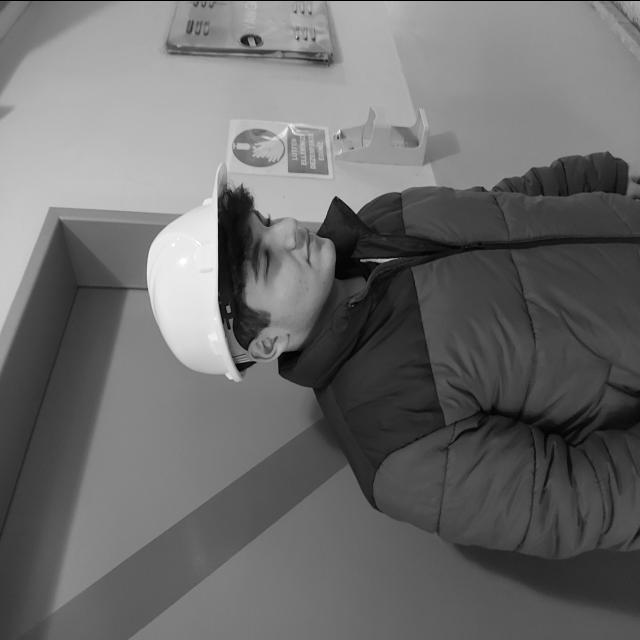safety_helmet: (147, 170, 253, 381)
